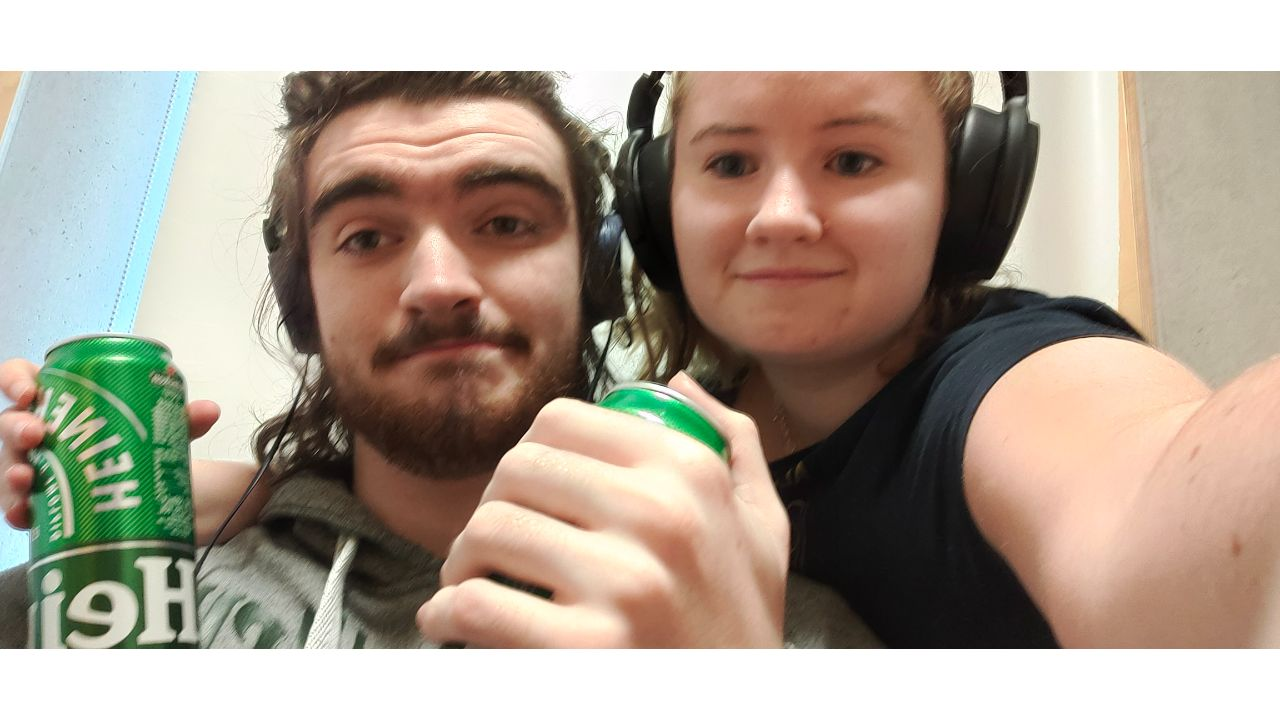Can: (26, 336, 198, 652), (498, 381, 727, 587)
